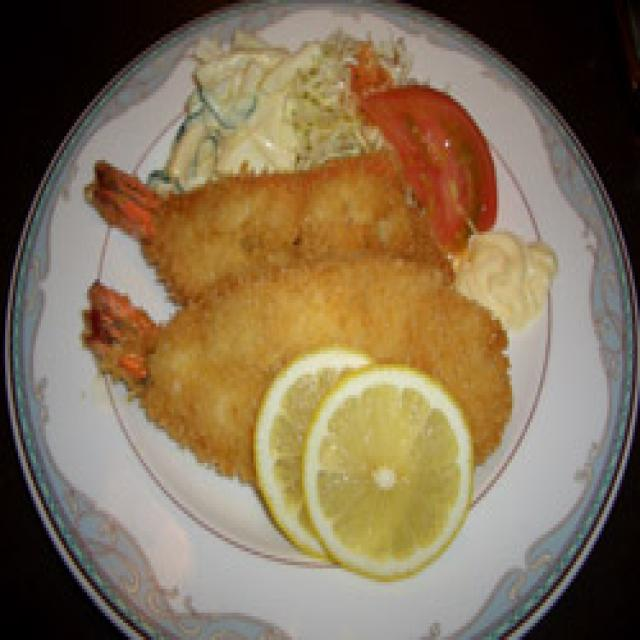炸货点心: (54, 106, 512, 493)
熟制海鲜: (54, 106, 512, 493)
